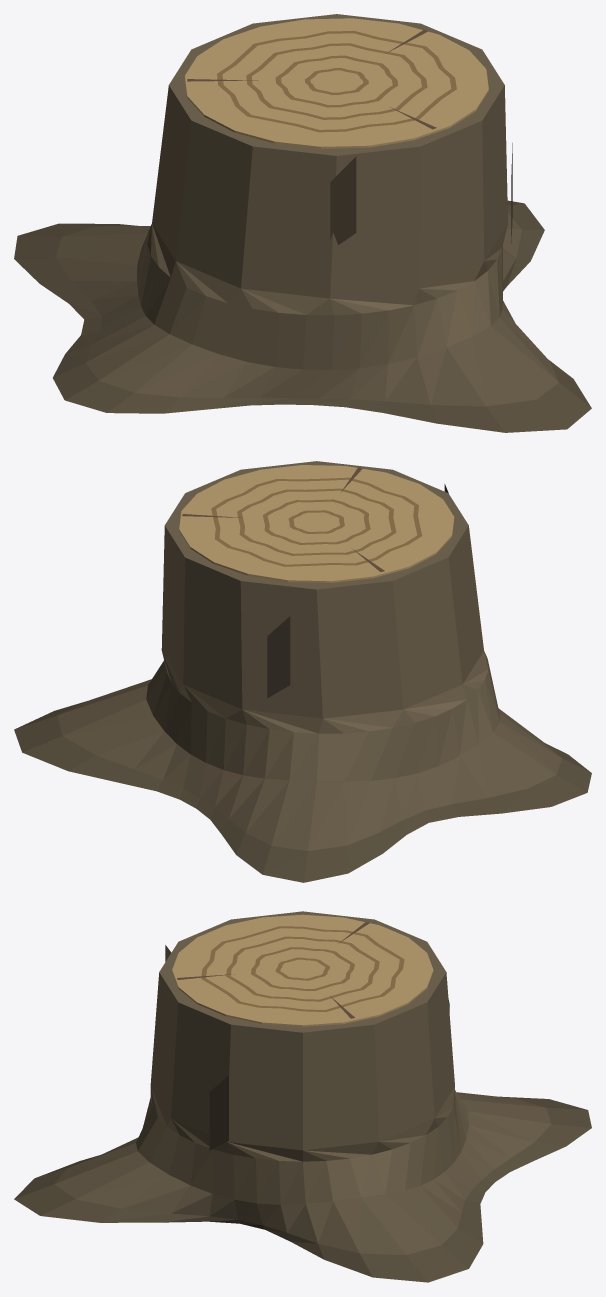
The model's file is willow_stump.glb.
The picture shows the model from 3 angles, top to bottom: view 1: azimuth 30°, elevation 25°; view 2: azimuth 150°, elevation 25°; view 3: azimuth 270°, elevation 25°; orthographic projection. The views are drawn at different scales.
Visible parts, largest first — view 1: stump, growth_rings; view 2: stump, growth_rings; view 3: stump, growth_rings.
Part boxes in pixels (x1=…): stump: x1=14, y1=14, x2=591, y2=432; growth_rings: x1=184, y1=18, x2=488, y2=148; stump: x1=14, y1=461, x2=591, y2=882; growth_rings: x1=179, y1=465, x2=454, y2=582; stump: x1=14, y1=911, x2=591, y2=1282; growth_rings: x1=172, y1=914, x2=433, y2=1026.
Size of the model in its own units: 1.17 by 0.488 by 1.25.
